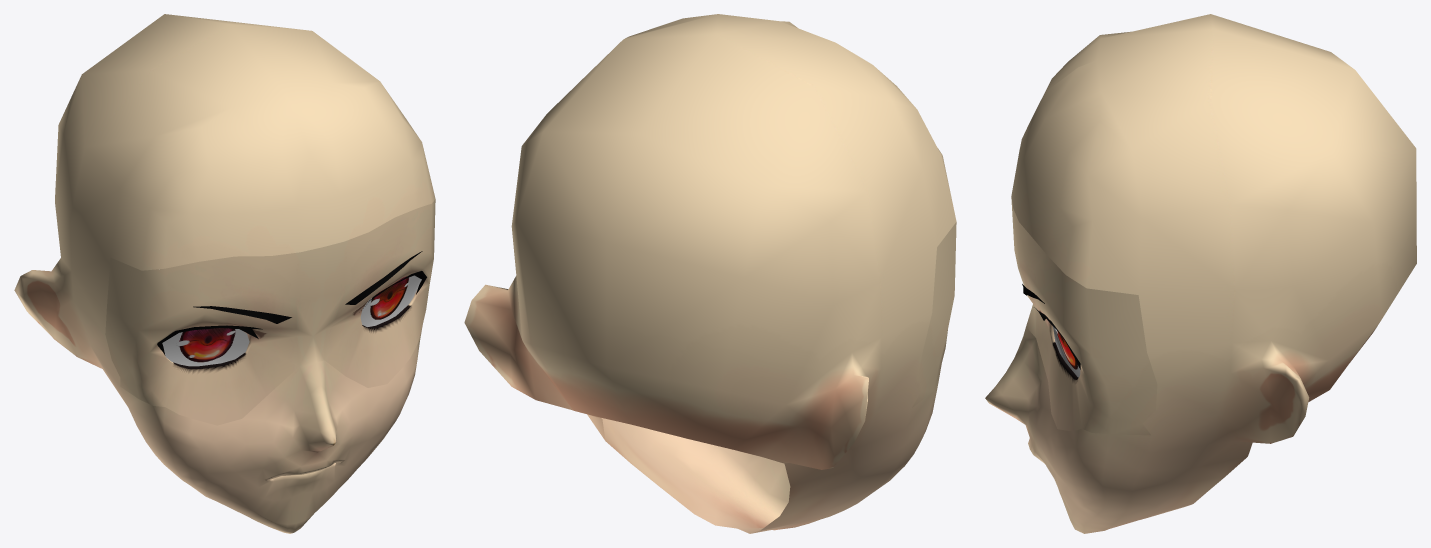
The model's file is Reiji@Cross.fbx.
The picture shows the model from 3 angles, left to right: view 1: azimuth 30°, elevation 25°; view 2: azimuth 150°, elevation 25°; view 3: azimuth 270°, elevation 25°; orthographic projection. The views are drawn at different scales.
Visible parts, largest first — view 1: FaceA, FaceB, eye, EB_R, BLW_ANG, EB_L, EL_ANG; view 2: FaceA, FaceB; view 3: FaceA, FaceB.
Part boxes in pixels (x1,y1,x2,y2): FaceA: (14,14,435,533); FaceB: (105,199,435,425); eye: (176,276,409,362); EB_R: (162,329,249,366); BLW_ANG: (193,251,422,323); EB_L: (360,275,421,327); EL_ANG: (157,271,426,355); FaceA: (464,14,956,533); FaceB: (912,222,956,407); FaceA: (985,14,1416,533); FaceB: (1011,197,1157,435).
Bounding box in the file's own units: 1.22 × 1.59 × 1.23.
